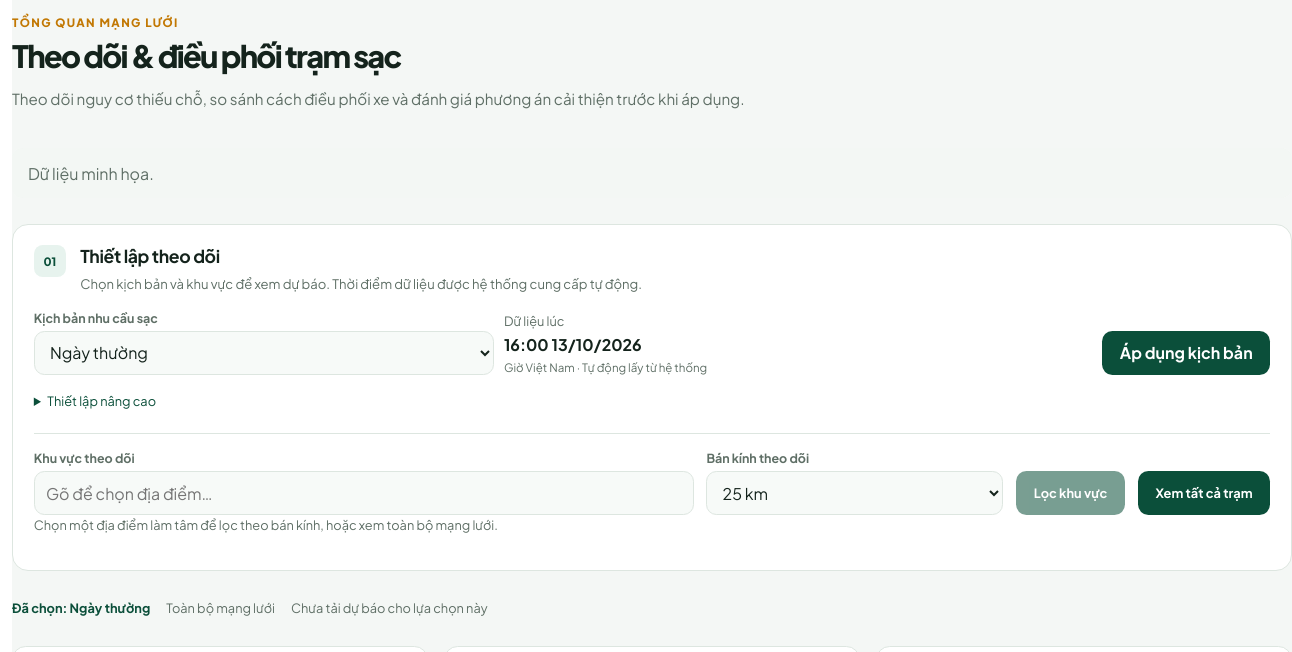
OperatorPage › keeps pressure stations textual when directory lacks coordinates
The width and height of the screenshot is (1292, 652).
Click the button "Áp dụng kịch bản".
click(1186, 353)  # box 1102,331 -> 1270,375
(page scrolled)
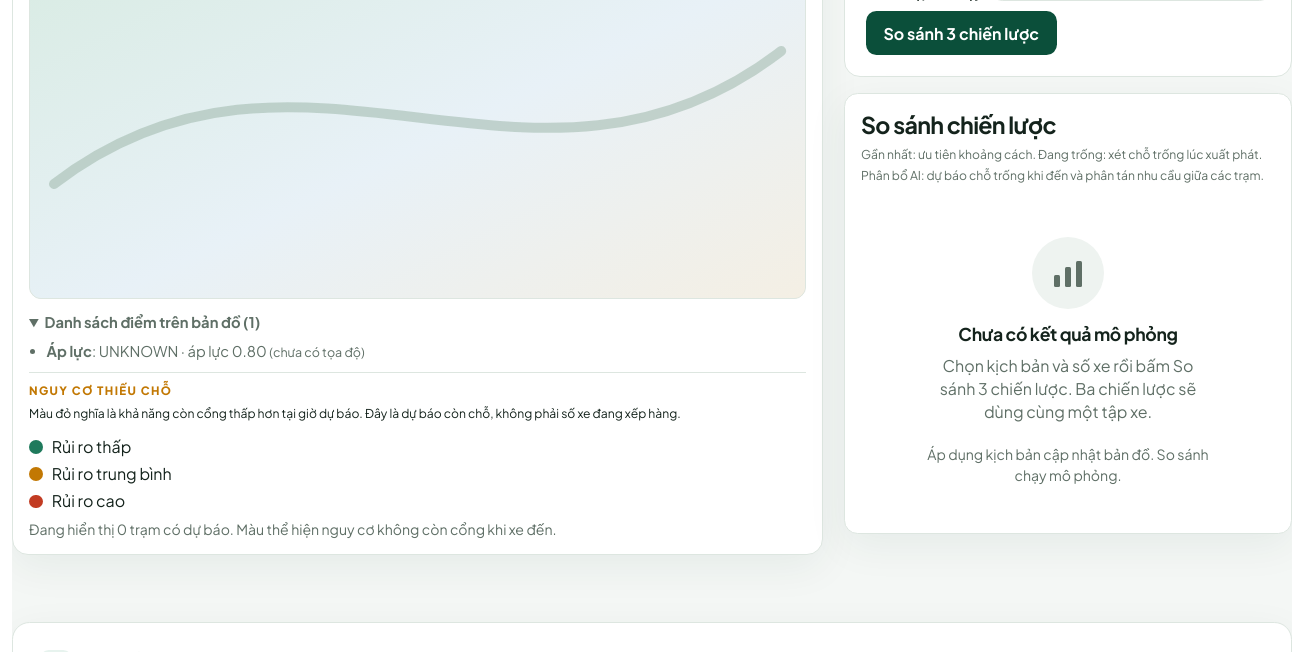
expect the text "(chưa có tọa độ)" is shown: met, box 269,344 -> 365,360
expect the list named "Station text list" shows "UNKNOWN": met, box 99,342 -> 267,360
